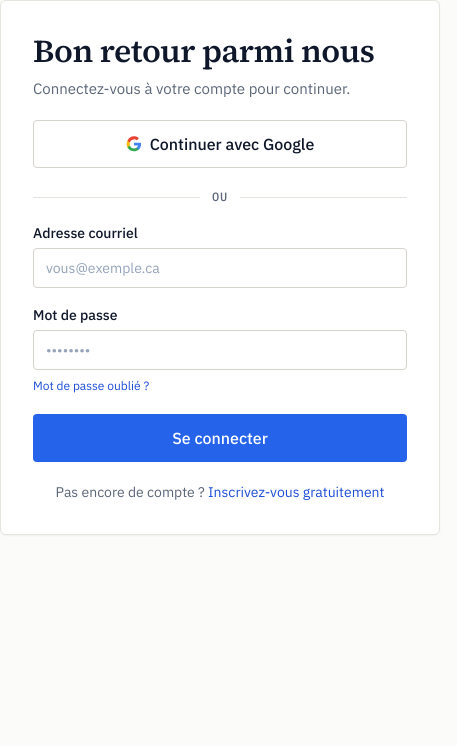
Test: SignInForm › affiche l'alerte actionnable avec lien reset sur identifiants invalides
Click the field with test id "auth-email" at (220,268), box [33,248,407,288]
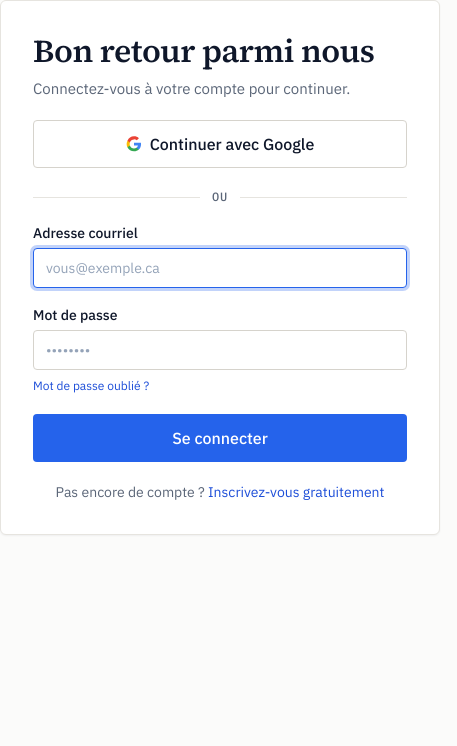
Type keys "user@example.com"
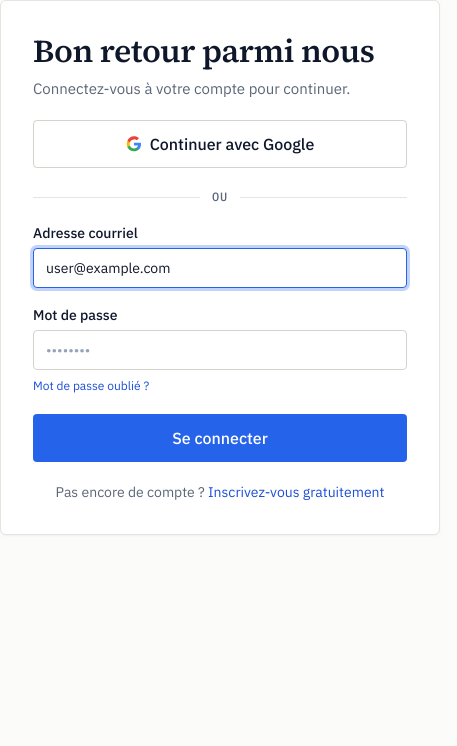
Click the password field with test id "auth-password" at (220,350), box [33,330,407,370]
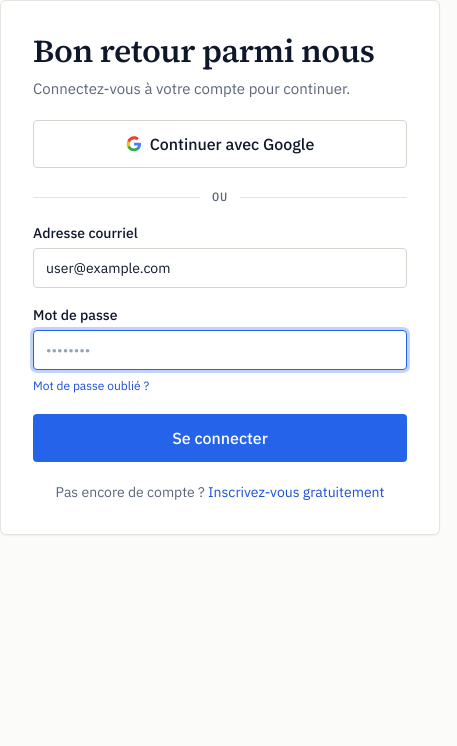
Type keys "password123"
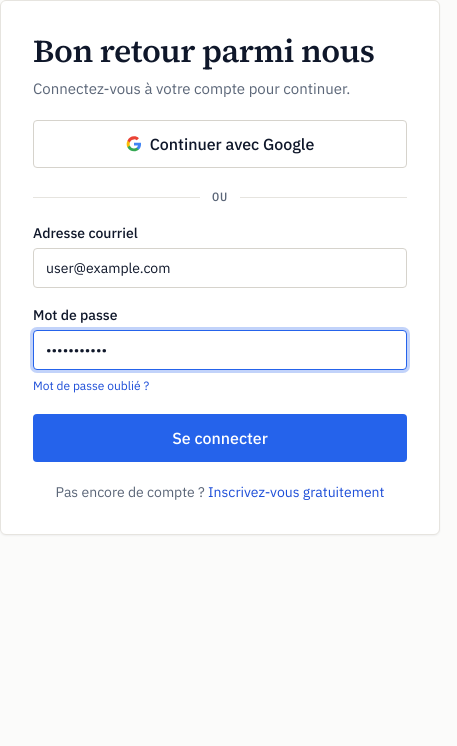
Click the button with test id "auth-submit" at (220,438), box [33,414,407,462]
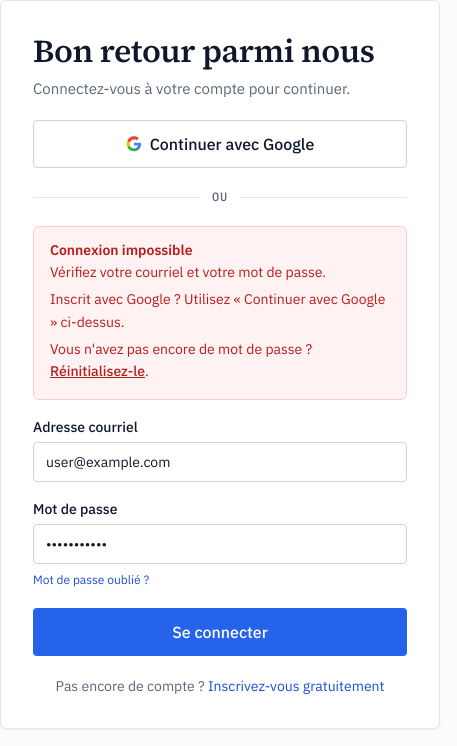
Now the message with test id "auth-error-alert" is shown, box [33,226,407,400]
